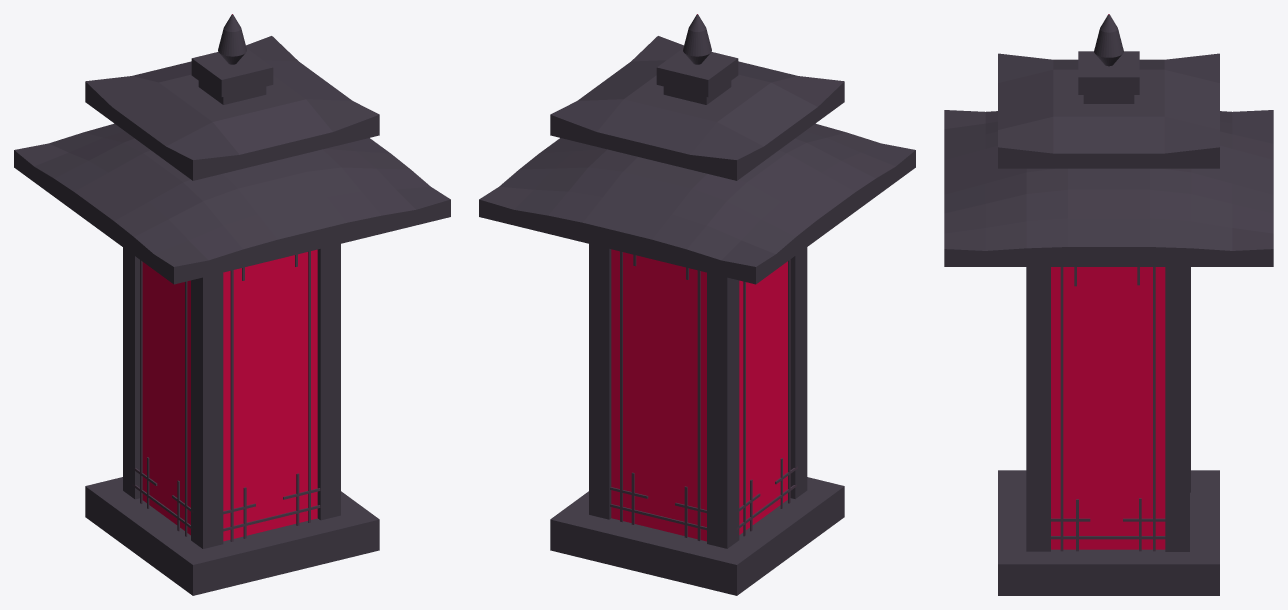
Rendered from lanp1.fbx.
The picture shows the model from 3 angles, left to right: view 1: azimuth 30°, elevation 25°; view 2: azimuth 150°, elevation 25°; view 3: azimuth 270°, elevation 25°; orthographic projection. The views are drawn at different scales.
Parts seen in each view (by area): view 1: Cube; view 2: Cube; view 3: Cube.
Boxes of the visible parts, x1,y1,x2,y2 form: Cube: (14, 14, 450, 595); Cube: (479, 14, 915, 595); Cube: (944, 14, 1273, 595).
Size of the model in its own units: 296 by 532 by 296.
